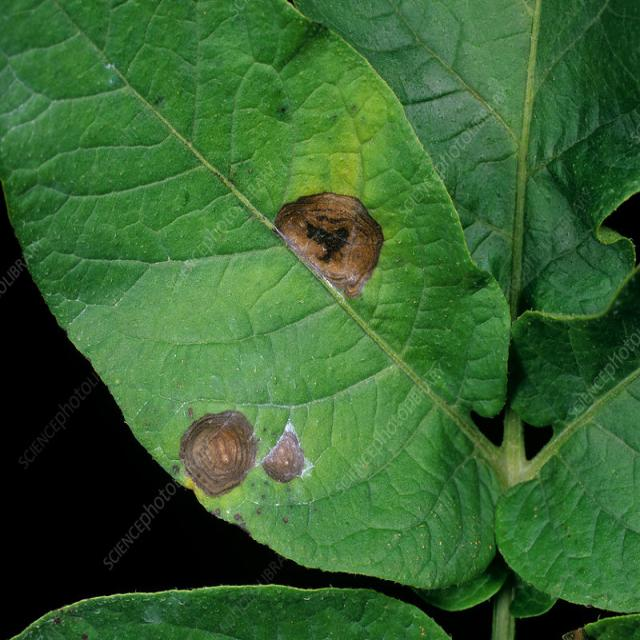earlyblight: (275, 192, 384, 298), (180, 411, 259, 496), (261, 423, 305, 483)
